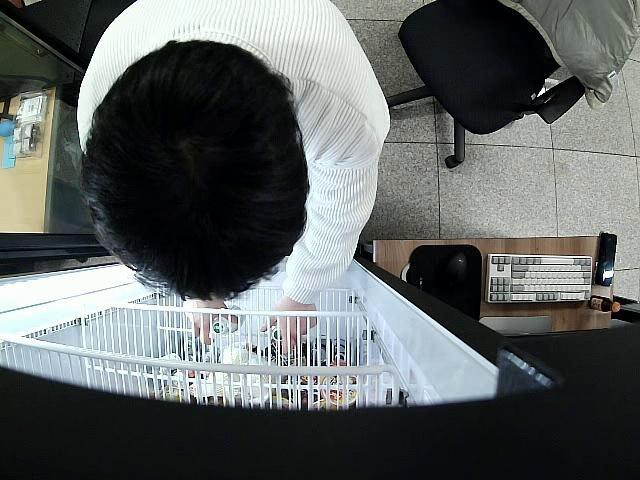18_trevi: (215, 304, 245, 334), (270, 326, 286, 342)
